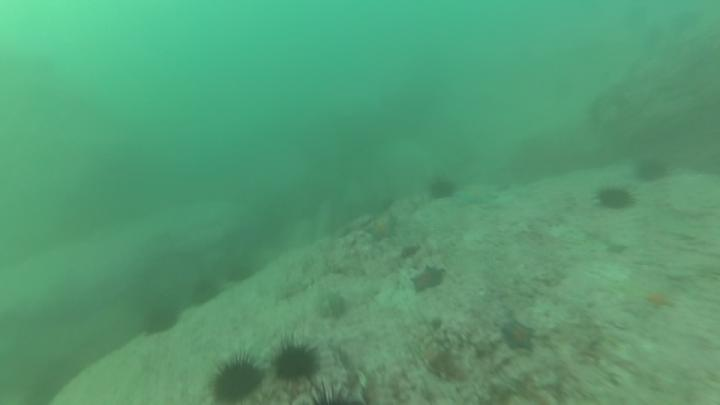echinus: (207, 350, 266, 405), (268, 334, 322, 391), (300, 384, 371, 405), (141, 306, 182, 337), (595, 185, 637, 213), (635, 157, 673, 185), (188, 282, 222, 309), (428, 177, 458, 202), (225, 265, 257, 287)
starfish: (408, 262, 450, 297), (500, 317, 538, 355), (363, 220, 402, 245), (643, 287, 674, 313), (398, 241, 424, 263), (602, 241, 632, 259)
